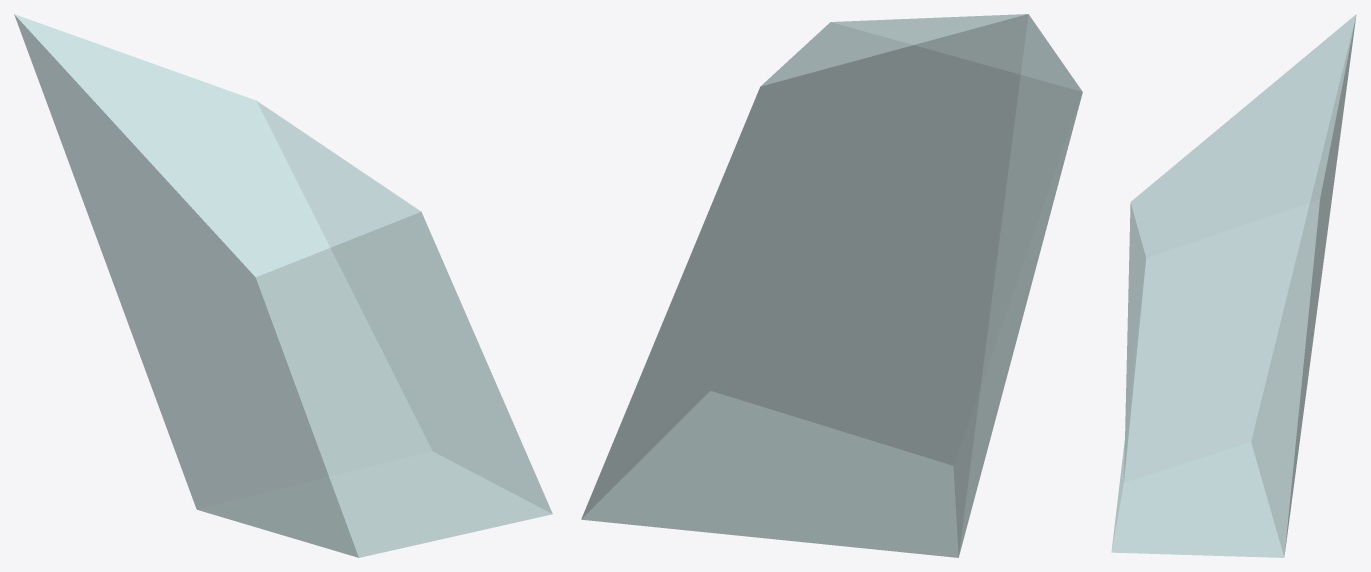
Rendered from sfgdfghsd.fbx.
3 renders of one model, left to right at view 1: azimuth 30°, elevation 25°; view 2: azimuth 150°, elevation 25°; view 3: azimuth 270°, elevation 25°, orthographic. The views are drawn at different scales.
Visible parts, largest first — view 1: Cube; view 2: Cube; view 3: Cube.
Part boxes in pixels (box(x1,y1,x2,y2)): Cube: box(14, 14, 552, 557); Cube: box(581, 14, 1082, 557); Cube: box(1111, 14, 1356, 557).
Size of the model in its own units: 255 by 312 by 175.
